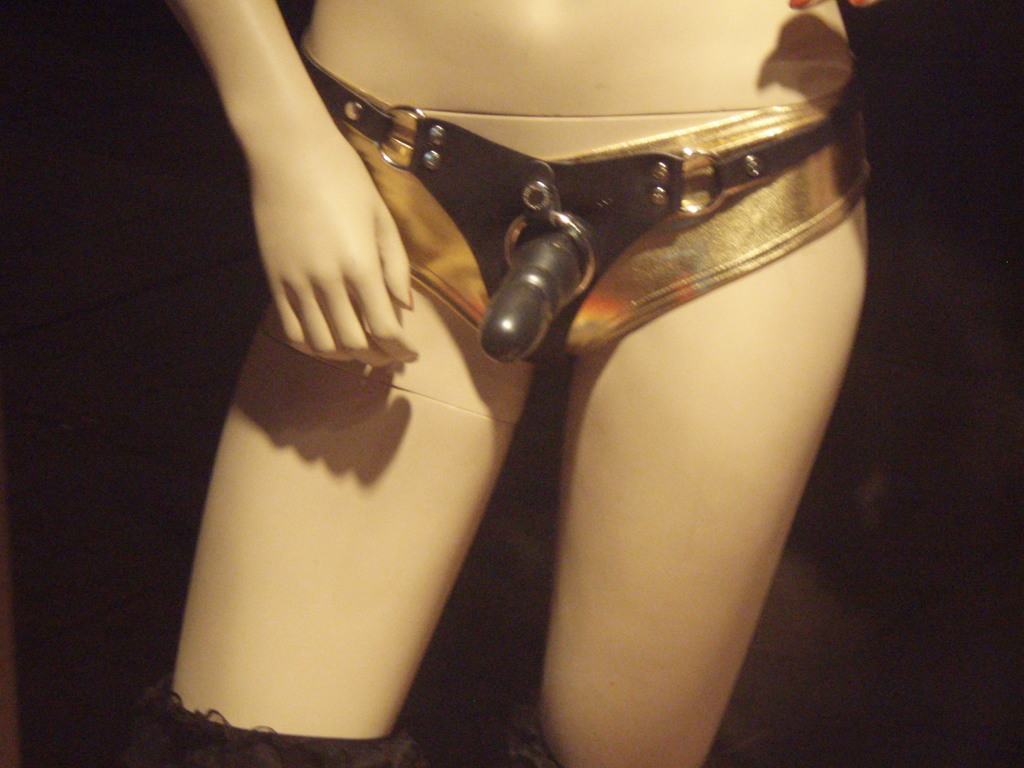Person: (130, 0, 883, 768)
